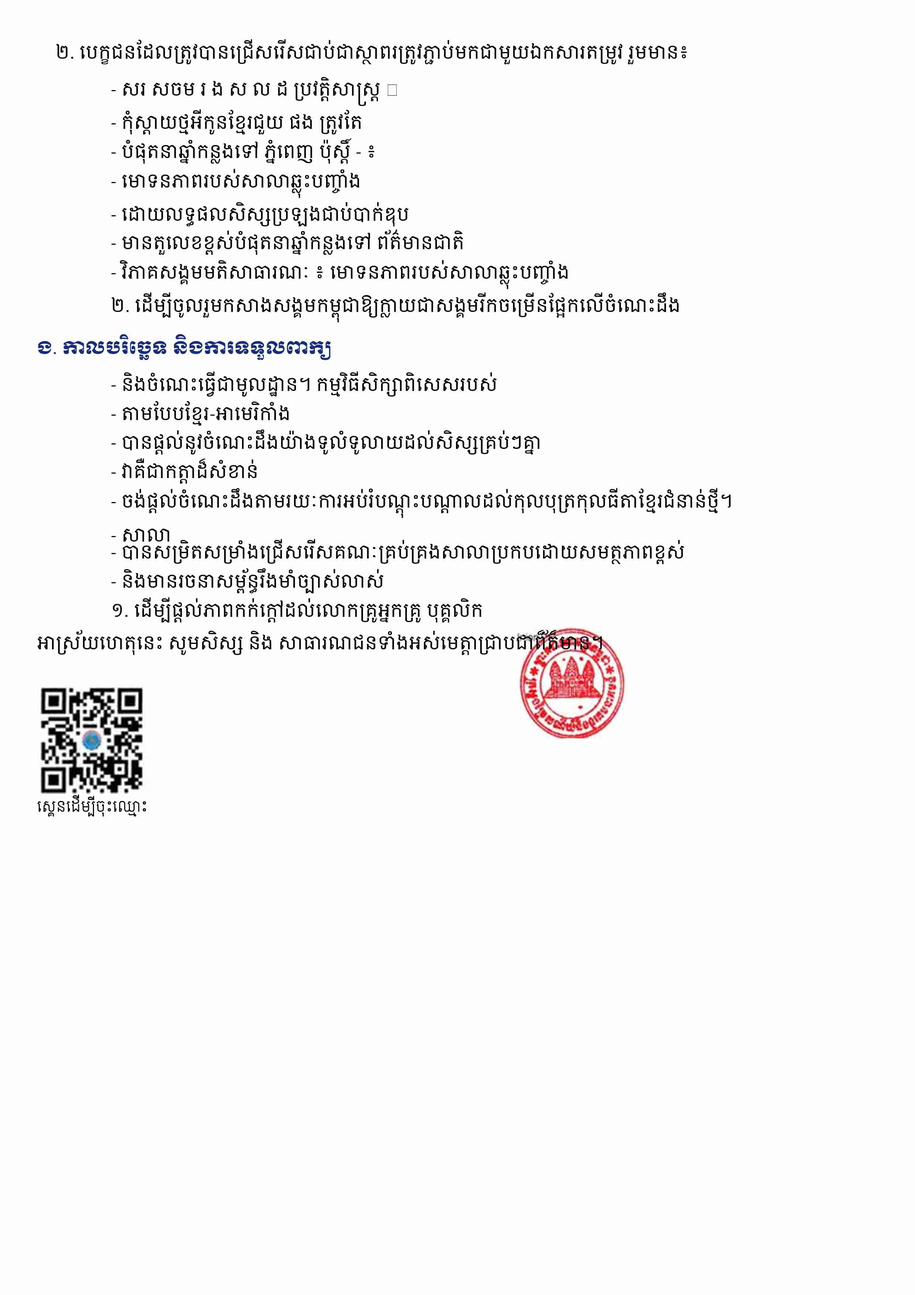decorative: (37, 683, 148, 794), (517, 628, 627, 738)
text: (111, 488, 733, 518), (111, 292, 681, 323), (55, 39, 689, 65), (111, 539, 685, 564), (37, 630, 604, 655), (111, 260, 570, 289), (111, 429, 542, 455), (111, 371, 497, 397), (111, 597, 483, 623), (111, 229, 465, 255), (111, 77, 399, 106), (37, 334, 331, 360), (111, 202, 409, 227), (111, 169, 361, 198), (111, 568, 384, 594), (111, 138, 376, 164), (111, 109, 363, 135), (111, 401, 291, 426), (111, 458, 259, 484), (37, 794, 148, 817), (111, 528, 171, 542)
